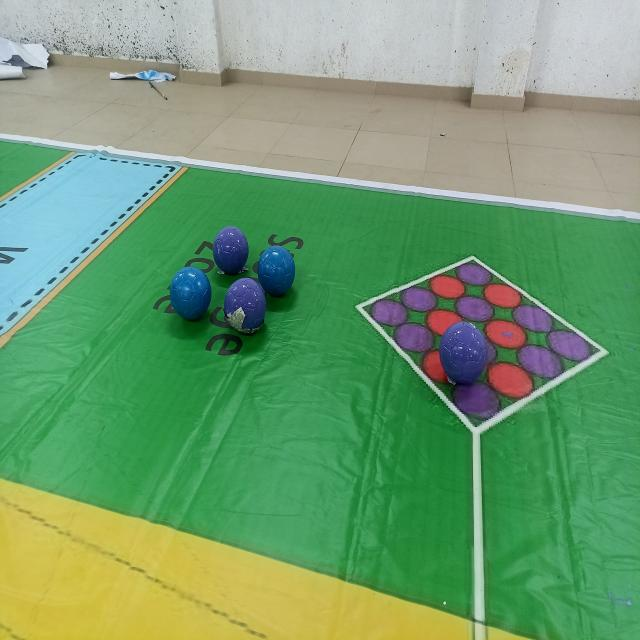blue_ball: (169, 266, 209, 325), (256, 248, 301, 300)
purple_ball: (435, 314, 492, 390), (220, 278, 272, 336), (212, 224, 252, 278)
